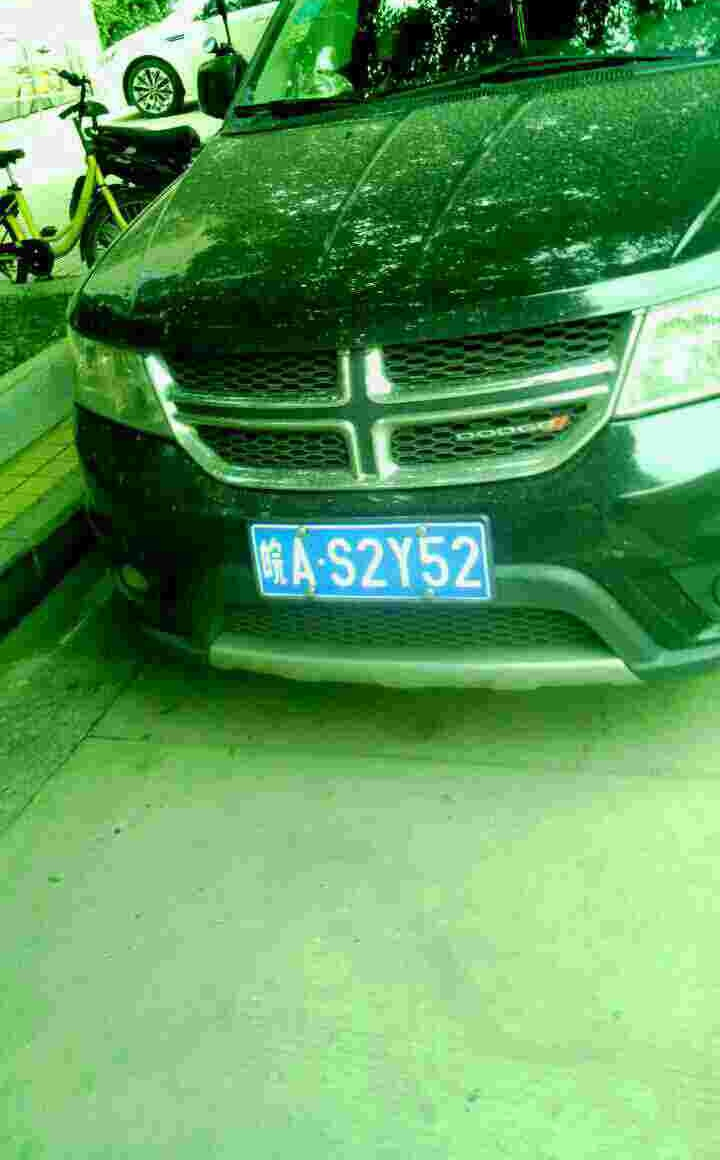license_plate: (246, 528, 493, 596)
